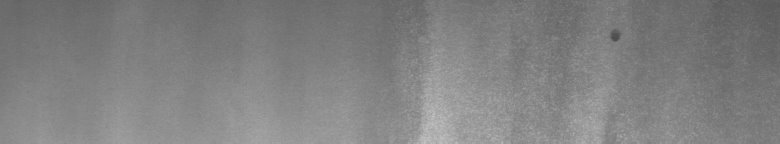fi: (604, 25, 623, 48)
